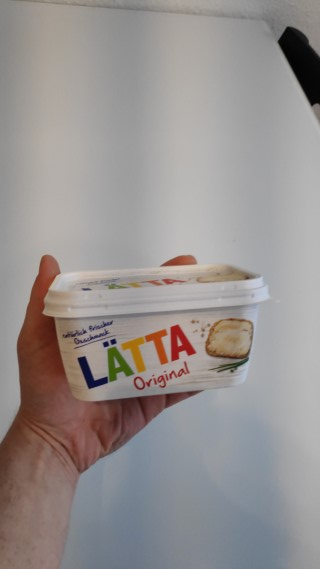laetta: (41, 261, 280, 400)
